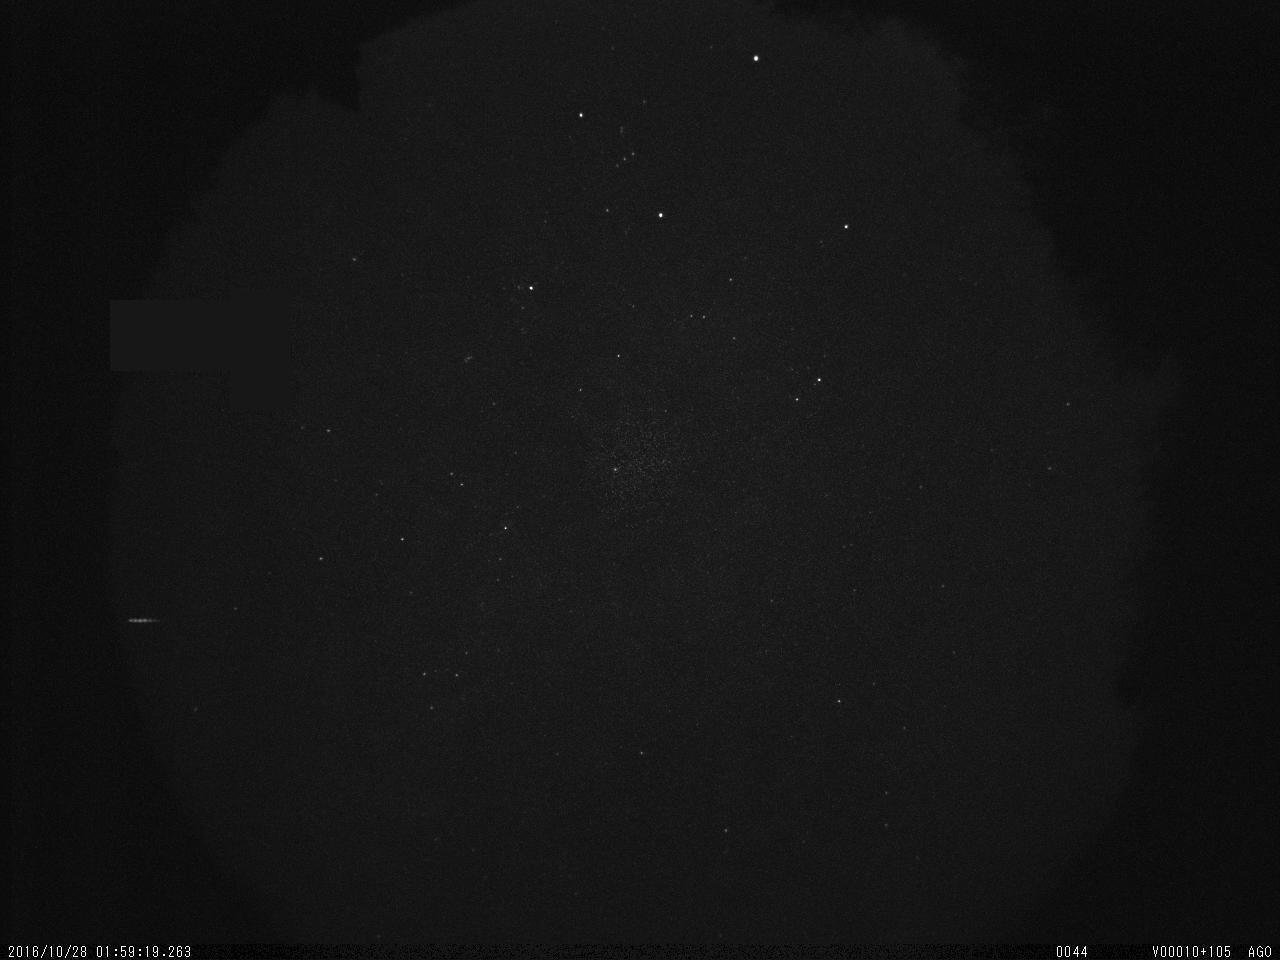Meteor: (122, 613, 163, 625)
